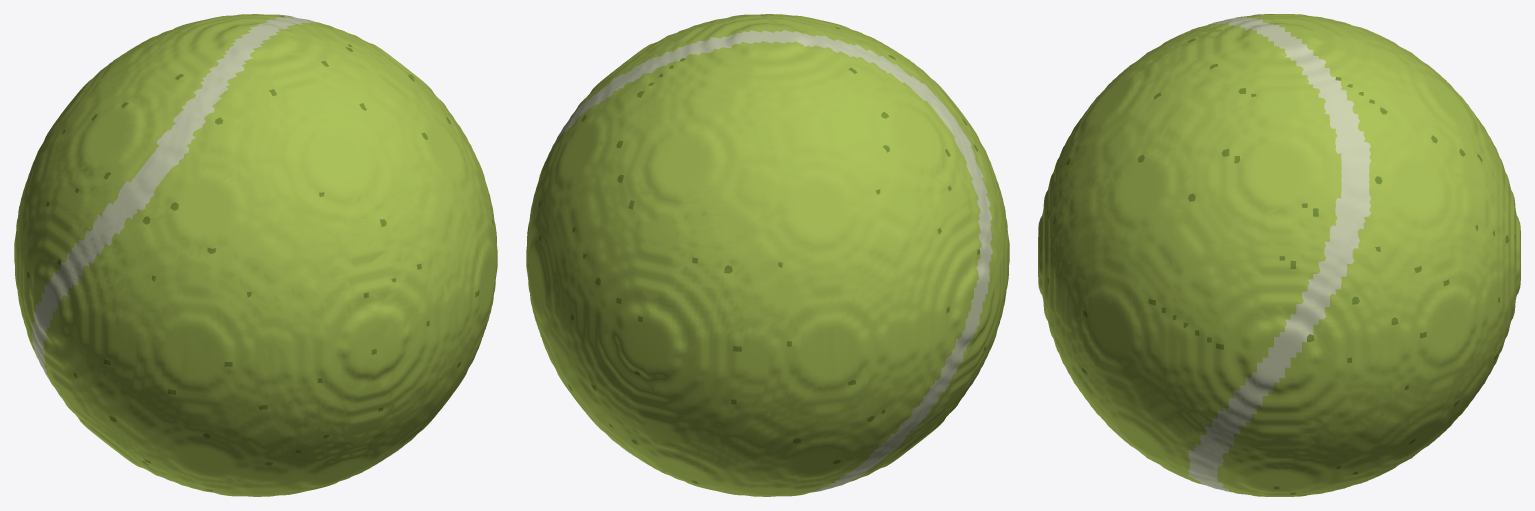
Rendered from ball_tennis.glb.
3 renders of one model, left to right at view 1: azimuth 30°, elevation 25°; view 2: azimuth 150°, elevation 25°; view 3: azimuth 270°, elevation 25°, orthographic.
Visible parts, largest first — view 1: __playground; view 2: __playground; view 3: __playground.
Boxes of the visible parts, x1=… form: __playground: x1=14, y1=14, x2=497, y2=496; __playground: x1=526, y1=14, x2=1009, y2=496; __playground: x1=1038, y1=14, x2=1520, y2=496.
Bounding box in the file's own units: 2.15 × 2.15 × 2.15.
